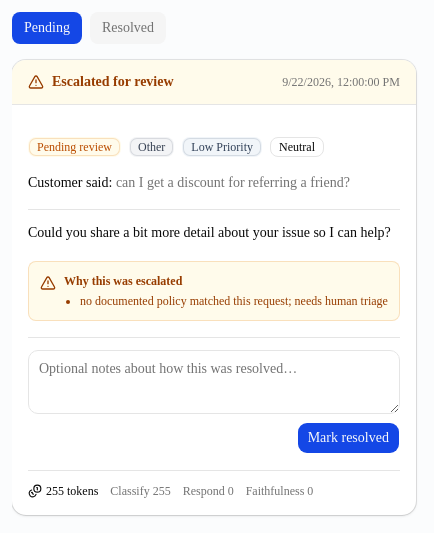
ReviewQueue › resolves a ticket and removes it from the list
Expected: the text "Customer said: can I get a discount for referring a friend?" is shown, [28, 173, 400, 193]
Type "Handled manually." into the text box with placeholder "Optional notes about how this was resolved…". click: (214, 382)
box: [28, 350, 400, 414]
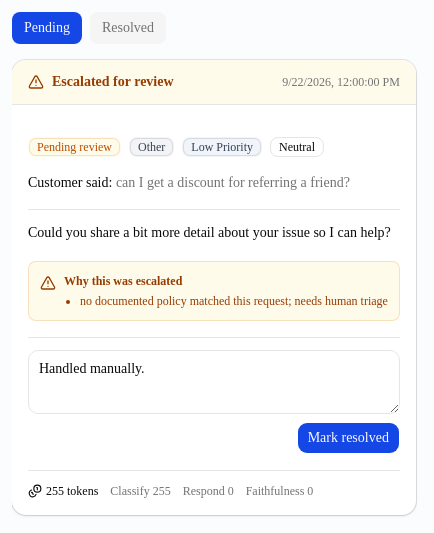
Click the button "Mark resolved". click: click(348, 438)
box: [297, 422, 400, 454]
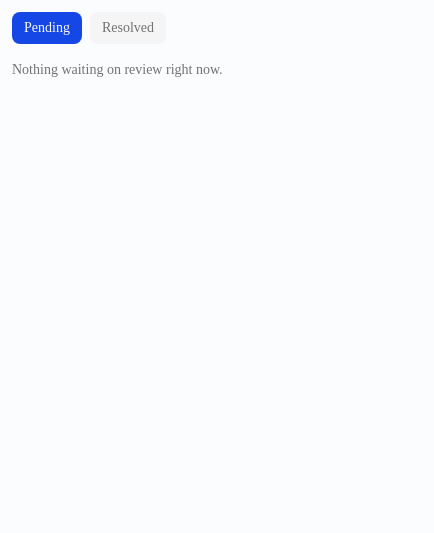
Expected: the text "Nothing waiting on review right now." is shown, [12, 60, 223, 80]
